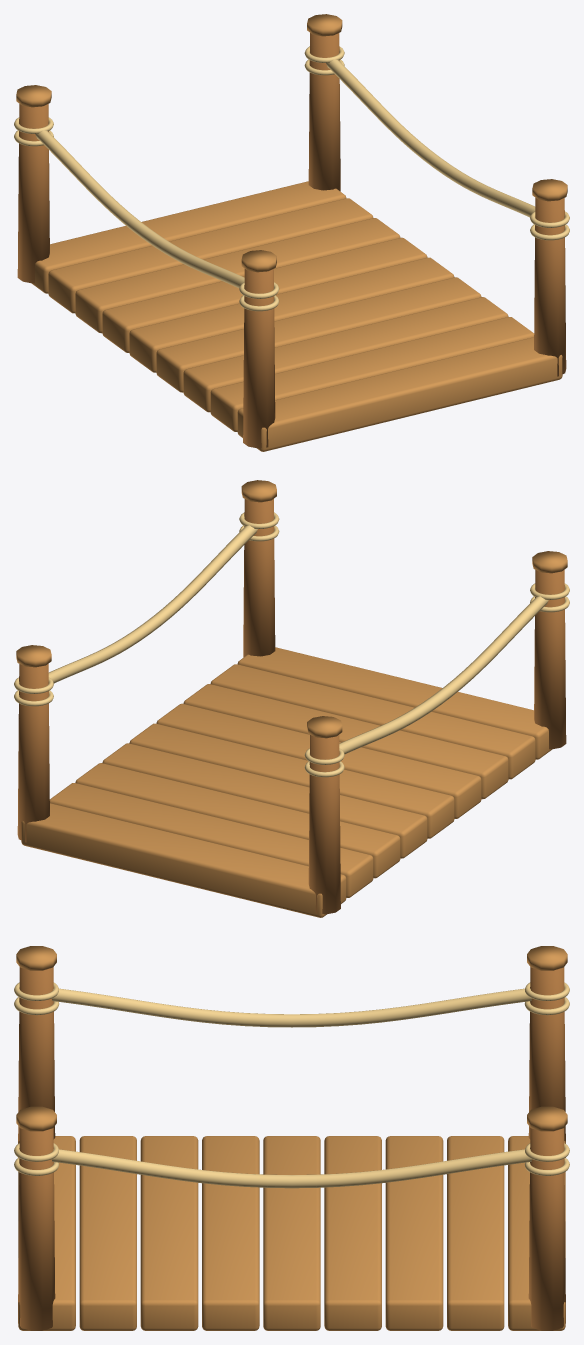
The model's file is bridge_straight.glb.
3 renders of one model, top to bottom at view 1: azimuth 30°, elevation 25°; view 2: azimuth 150°, elevation 25°; view 3: azimuth 270°, elevation 25°, orthographic. The views are drawn at different scales.
Parts seen in each view (by area): view 1: bridge_straight; view 2: bridge_straight; view 3: bridge_straight.
Part boxes in pixels (x1,y1,x2,y2): bridge_straight: (14, 14, 569, 451); bridge_straight: (14, 480, 569, 917); bridge_straight: (14, 946, 569, 1330).
Bounding box in the file's own units: 1.63 × 0.9074 × 2.13.
